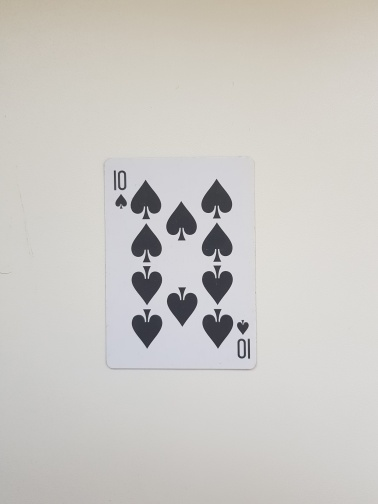ten: (102, 155, 258, 373)
